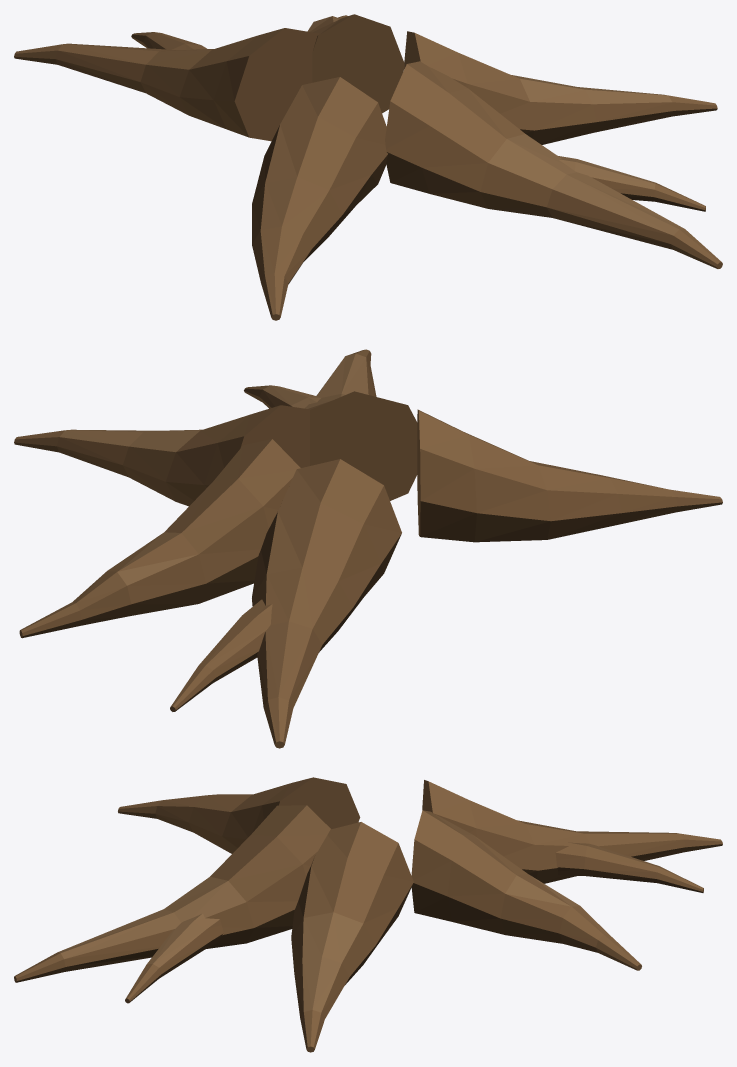
Rendered from SM_ExposedRoots.fbx.
3 views of the same model, one above another, from view 1: azimuth 30°, elevation 25°; view 2: azimuth 150°, elevation 25°; view 3: azimuth 270°, elevation 25° (orthographic). The views are drawn at different scales.
Visible parts, largest first — view 1: SM_ExposedRoots; view 2: SM_ExposedRoots; view 3: SM_ExposedRoots.
Part boxes in pixels (<box>): SM_ExposedRoots: <box>14,14,722,320</box>; SM_ExposedRoots: <box>14,349,722,748</box>; SM_ExposedRoots: <box>14,777,722,1052</box>.
Bounding box in the file's own units: 2.39 × 2.96 × 0.512.
1 material, 1 textured.
